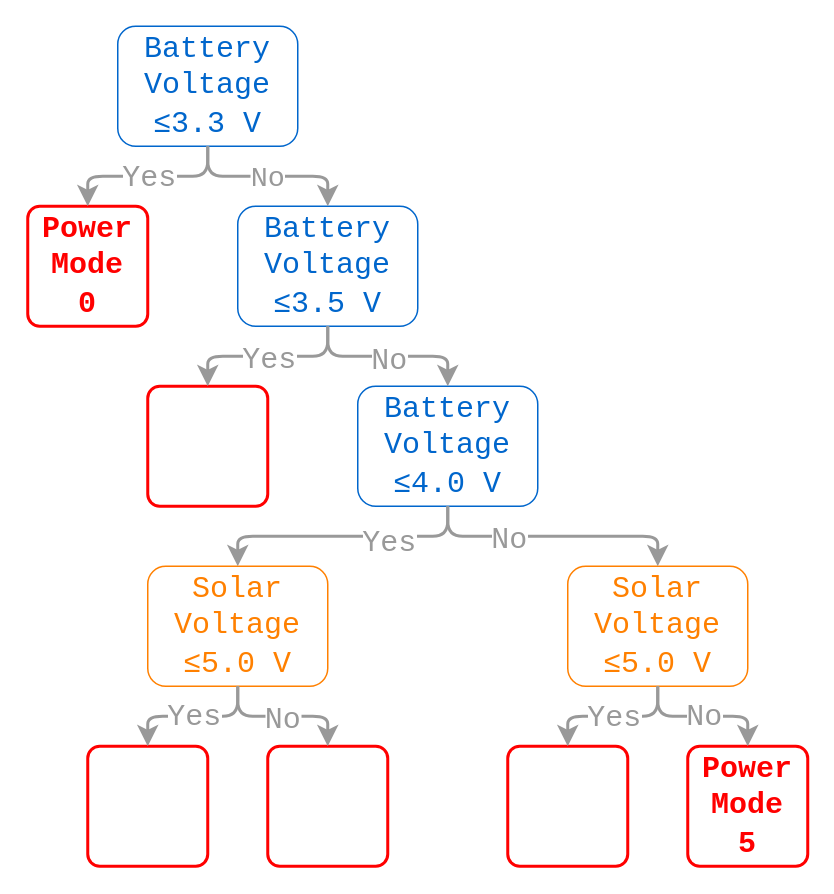
Image size: 834x894. Some labels were removed from this diagram. The box of each missing label's shape, as (x1, y1, x2, y2) in pixels:
Power Mode 1: (146, 384, 268, 507)
Power Mode 2: (86, 744, 208, 867)
Power Mode 3: (266, 744, 388, 867)
Power Mode 4: (506, 744, 628, 867)
